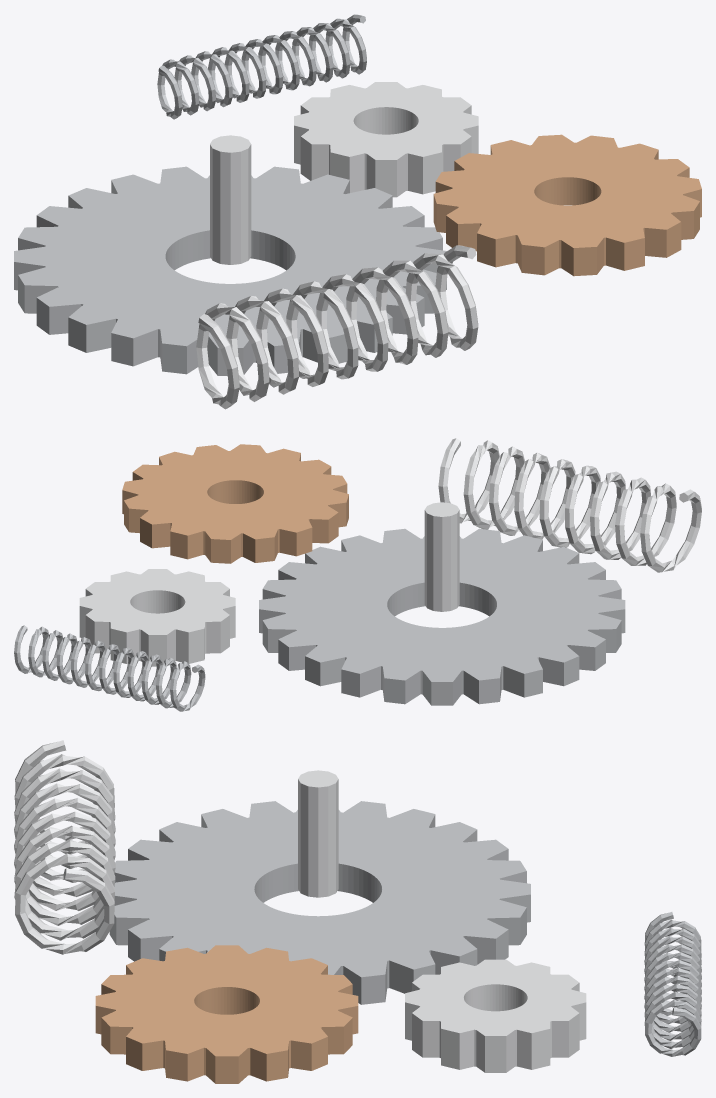
File: engrenagens.glb
3 renders of one model, top to bottom at view 1: azimuth 30°, elevation 25°; view 2: azimuth 150°, elevation 25°; view 3: azimuth 270°, elevation 25°, orthographic. The views are drawn at different scales.
Parts seen in each view (by area): view 1: engrenagens_aco, engrenagens_aco_polido, engrenagens_cobre; view 2: engrenagens_aco, engrenagens_aco_polido, engrenagens_cobre; view 3: engrenagens_aco, engrenagens_aco_polido, engrenagens_cobre.
Part boxes in pixels (left/top/right/bottom): engrenagens_aco: left=14, top=14, right=446, bottom=375; engrenagens_aco_polido: left=196, top=82, right=478, bottom=409; engrenagens_cobre: left=433, top=134, right=701, bottom=276; engrenagens_aco: left=14, top=528, right=625, bottom=711; engrenagens_aco_polido: left=79, top=438, right=701, bottom=666; engrenagens_cobre: left=122, top=444, right=348, bottom=563; engrenagens_aco: left=109, top=801, right=701, bottom=1056; engrenagens_aco_polido: left=14, top=740, right=586, bottom=1072; engrenagens_cobre: left=95, top=945, right=358, bottom=1083.
Bounding box in the file's own units: 0.1328 × 0.03 × 0.1357.
